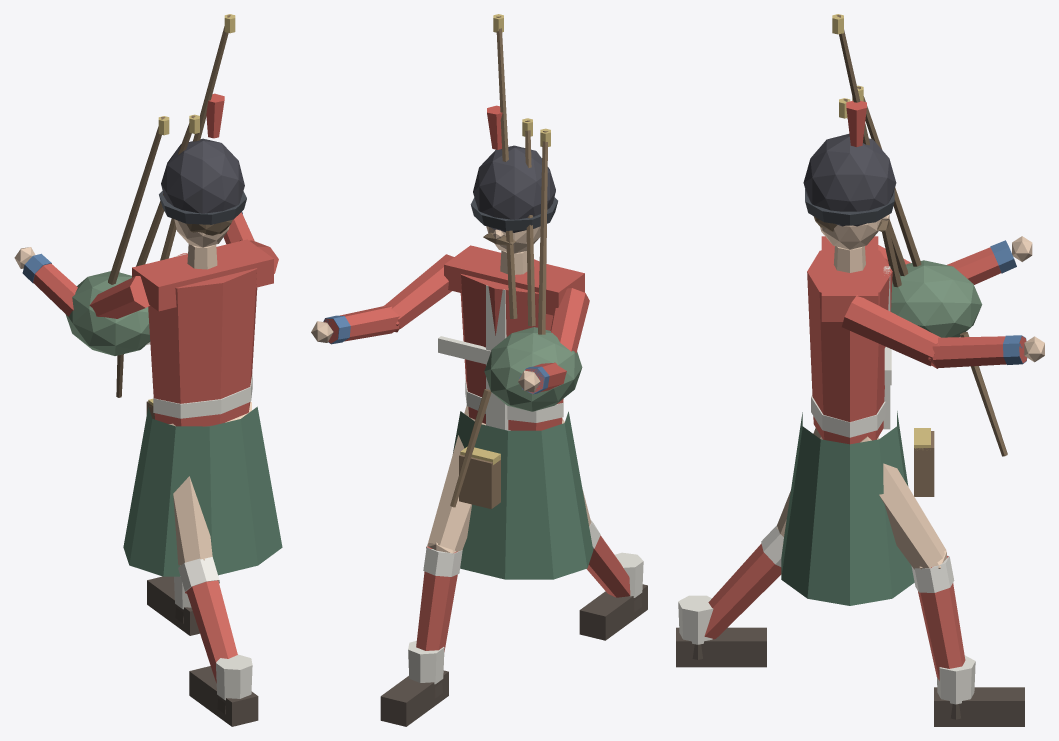
The model's file is black_watch_piper.glb.
3 renders of one model, left to right at view 1: azimuth 30°, elevation 25°; view 2: azimuth 150°, elevation 25°; view 3: azimuth 270°, elevation 25°, orthographic. The views are drawn at different scales.
Visible parts, largest first — view 1: scarlet, tartan_g, feather, skin, bag_green, boot, buff, wood_dk, hose_red, tartan_k, hose_white, brass (+1 smaller); view 2: tartan_g, scarlet, buff, bag_green, wood_dk, boot, feather, skin, hose_red, leather, hose_white, tartan_k (+3 smaller); view 3: scarlet, tartan_g, skin, boot, hose_red, feather, bag_green, buff, wood_dk, hose_white, tartan_k, leather (+3 smaller).
Boxes of the visible parts, left/top/right/bottom form: scarlet: left=33, top=212, right=278, bottom=426; tartan_g: left=123, top=406, right=282, bottom=576; feather: left=161, top=138, right=244, bottom=222; skin: left=14, top=219, right=251, bottom=565; bag_green: left=65, top=271, right=150, bottom=355; boot: left=147, top=576, right=258, bottom=726; buff: left=145, top=253, right=252, bottom=700; wood_dk: left=108, top=15, right=230, bottom=397; hose_red: left=185, top=580, right=237, bottom=683; tartan_k: left=159, top=191, right=246, bottom=224; hose_white: left=178, top=557, right=219, bottom=591; brass: left=148, top=14, right=235, bottom=406; tartan_g: left=453, top=411, right=593, bottom=579; scarlet: left=324, top=245, right=589, bottom=430; buff: left=408, top=285, right=643, bottom=684; bag_green: left=484, top=327, right=582, bottom=411; wood_dk: left=450, top=16, right=548, bottom=507; boot: left=380, top=584, right=647, bottom=726; feather: left=473, top=145, right=555, bottom=232; skin: left=311, top=226, right=591, bottom=553; hose_red: left=416, top=535, right=630, bottom=651; leather: left=459, top=454, right=500, bottom=509; hose_white: left=423, top=520, right=600, bottom=576; tartan_k: left=470, top=197, right=557, bottom=230; scarlet: left=807, top=236, right=1026, bottom=444; tartan_g: left=781, top=411, right=914, bottom=605; skin: left=776, top=214, right=1044, bottom=569; boot: left=676, top=627, right=1024, bottom=726; hose_red: left=704, top=543, right=965, bottom=680; feather: left=803, top=134, right=896, bottom=226; bag_green: left=891, top=260, right=982, bottom=337; buff: left=678, top=266, right=975, bottom=704; wood_dk: left=836, top=15, right=1007, bottom=456; hose_white: left=761, top=525, right=954, bottom=592; tartan_k: left=805, top=189, right=894, bottom=225; leather: left=914, top=431, right=934, bottom=496.
Size of the model in its own units: 0.8179 by 2.32 by 1.12.
